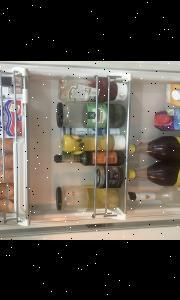Huevos: (0, 182, 14, 198), (0, 153, 13, 167), (0, 138, 13, 152), (0, 199, 14, 211), (0, 169, 14, 181), (0, 188, 8, 202), (0, 173, 8, 187)
Leche: (154, 108, 180, 130), (165, 83, 180, 108)
